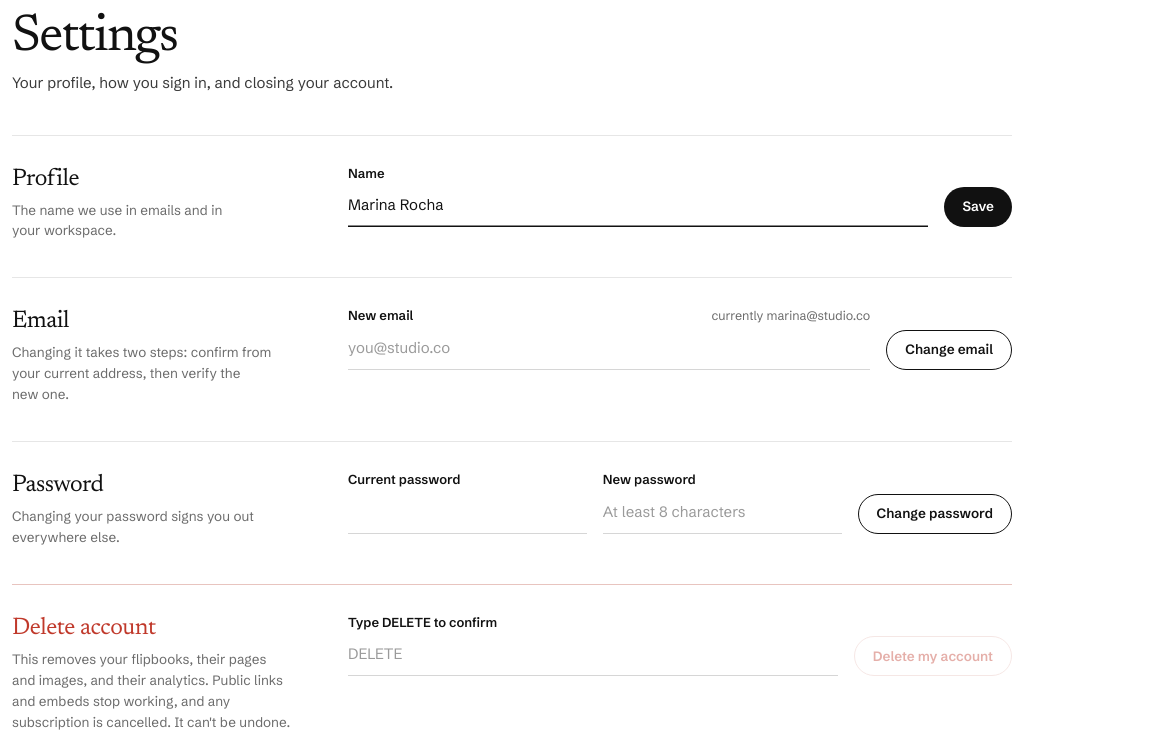
account settings › explains the two steps when changing a verified email
Step 1. Type "new@studio.co" into the field labelled "New email currently marina@studio.co" → [609, 348], box x1=348 y1=326 x2=870 y2=370
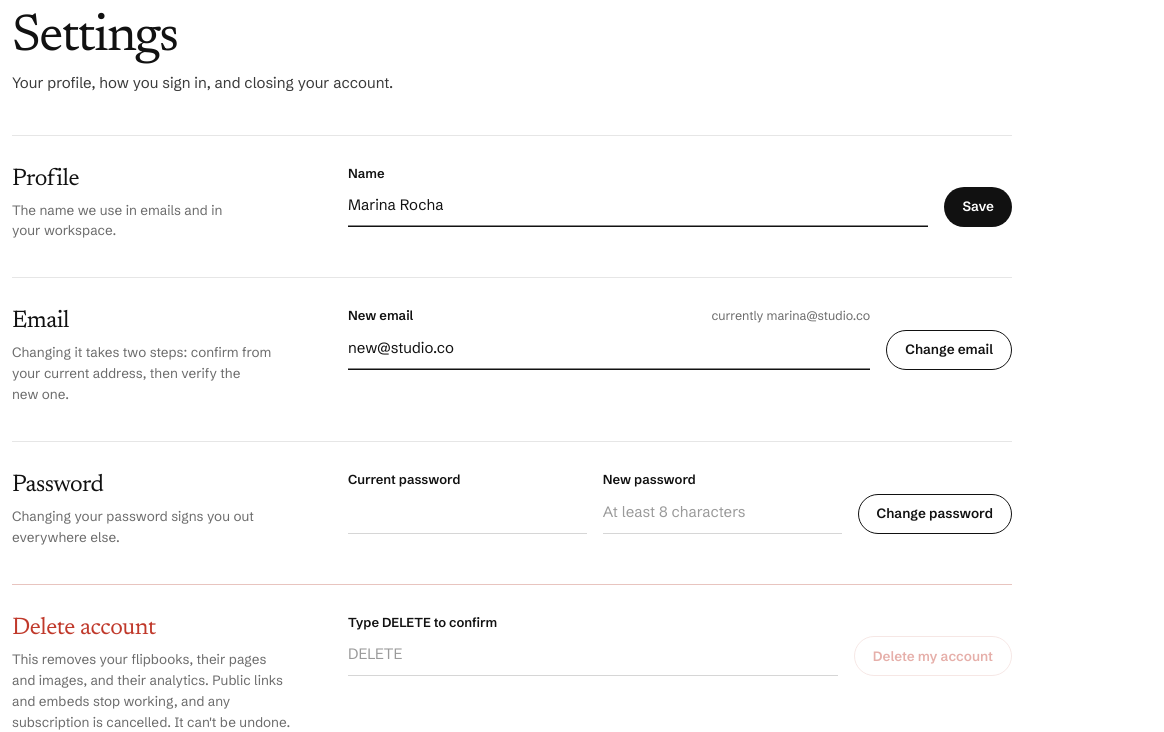
Step 2. Click the button "Change email" → [949, 350], box x1=886 y1=330 x2=1012 y2=370
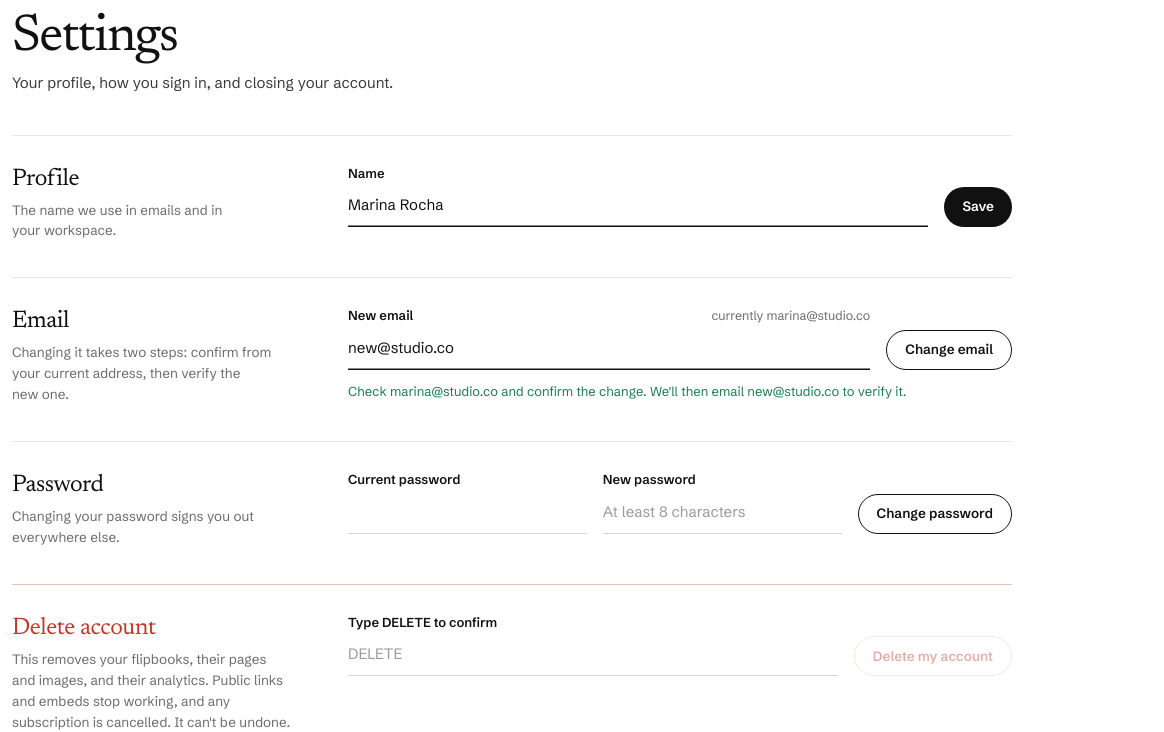
expect the message shows "Check marina@studio.co": met, box x1=348 y1=383 x2=906 y2=399
